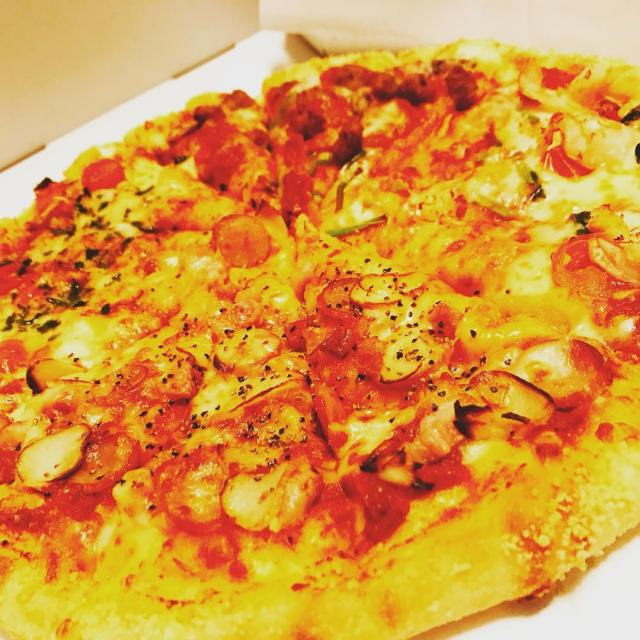pepperoni: (551, 226, 639, 325), (67, 430, 142, 492), (212, 211, 274, 271), (567, 332, 611, 391), (76, 160, 127, 194)
pizza: (0, 38, 640, 640)
